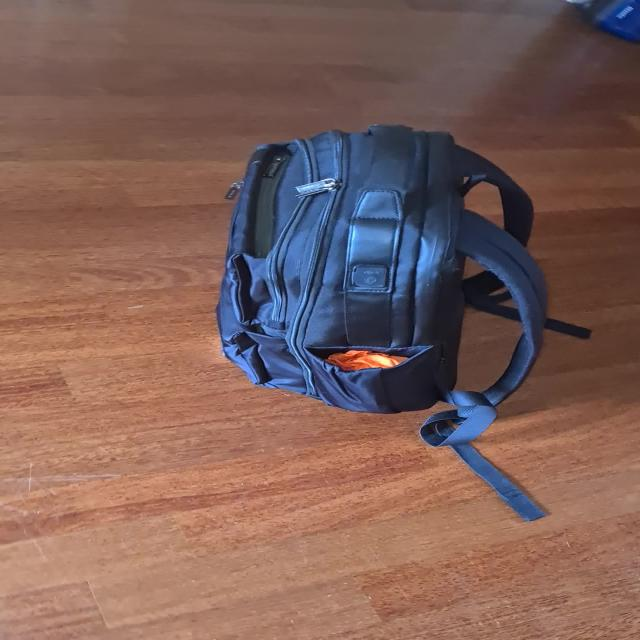backpack: (204, 109, 552, 419)
